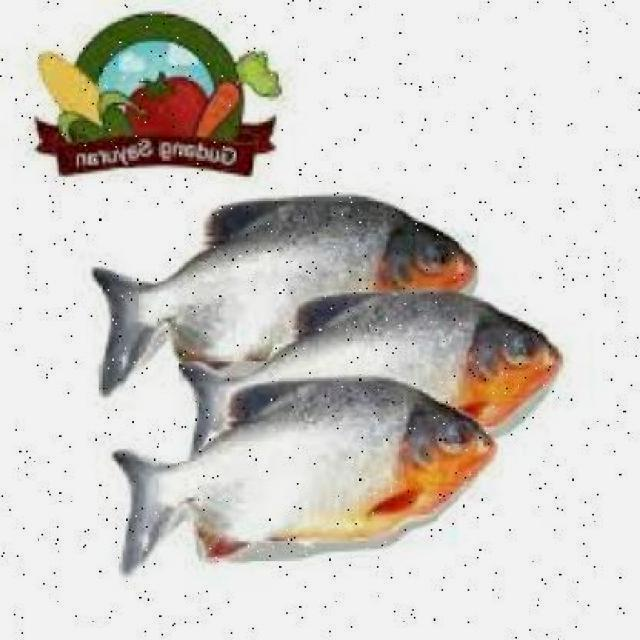ikan-pacu: (114, 380, 498, 556), (100, 197, 476, 357), (270, 293, 566, 418)
